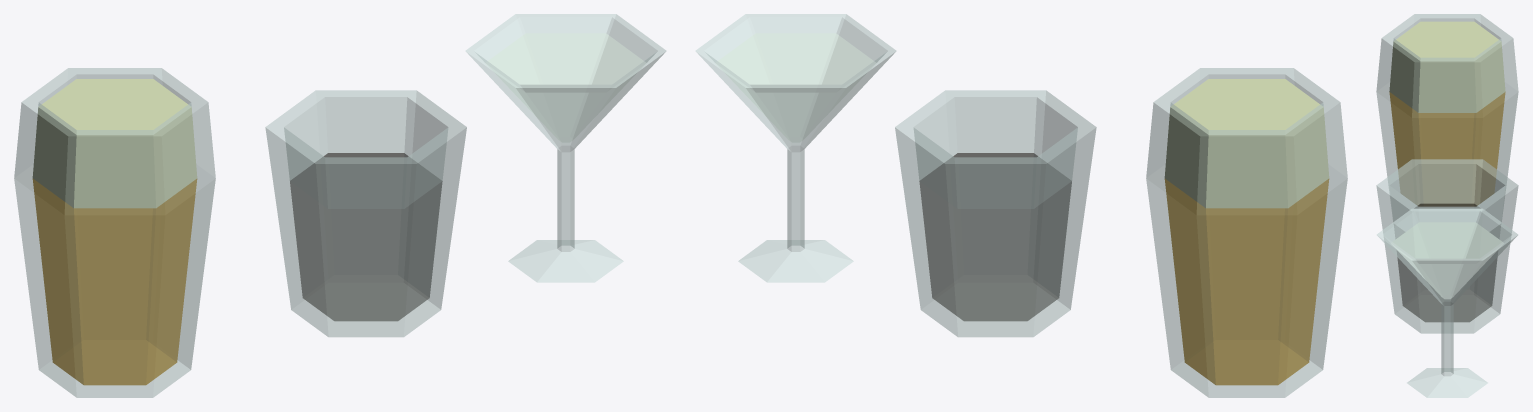
File: glazen.fbx
3 views of the same model, side by side, from view 1: azimuth 30°, elevation 25°; view 2: azimuth 150°, elevation 25°; view 3: azimuth 270°, elevation 25° (orthographic). The views are drawn at different scales.
Visible parts, largest first — view 1: pilsie, cola glas, martini; view 2: pilsie, cola glas, martini; view 3: pilsie, cola glas, martini.
Part boxes in pixels (x1,y1,x2,y2): pilsie: (14, 68, 215, 397); cola glas: (265, 90, 466, 337); martini: (465, 14, 666, 282); pilsie: (1146, 68, 1347, 397); cola glas: (895, 90, 1096, 337); martini: (695, 14, 896, 282); pilsie: (1376, 14, 1518, 216); cola glas: (1376, 159, 1518, 333); martini: (1377, 208, 1517, 397).
Bounding box in the file's own units: 68.95 × 29.44 × 20.
